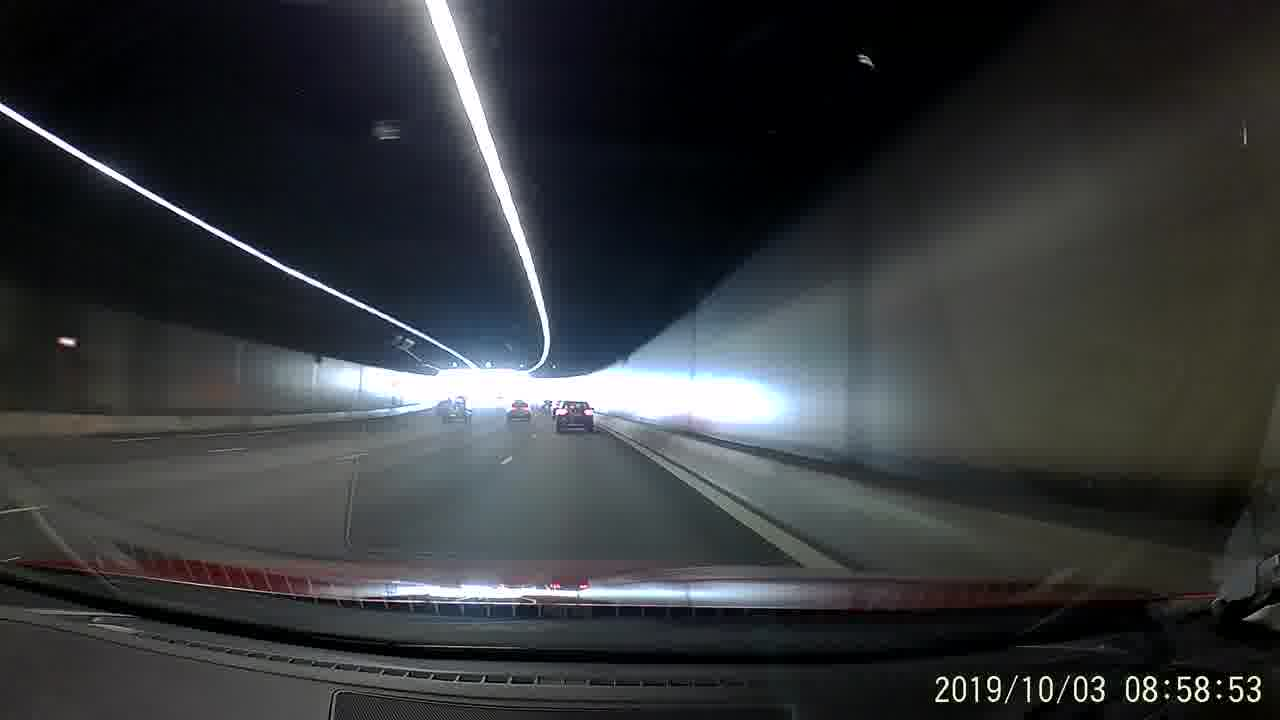car: (553, 399, 594, 438), (505, 401, 534, 423)
